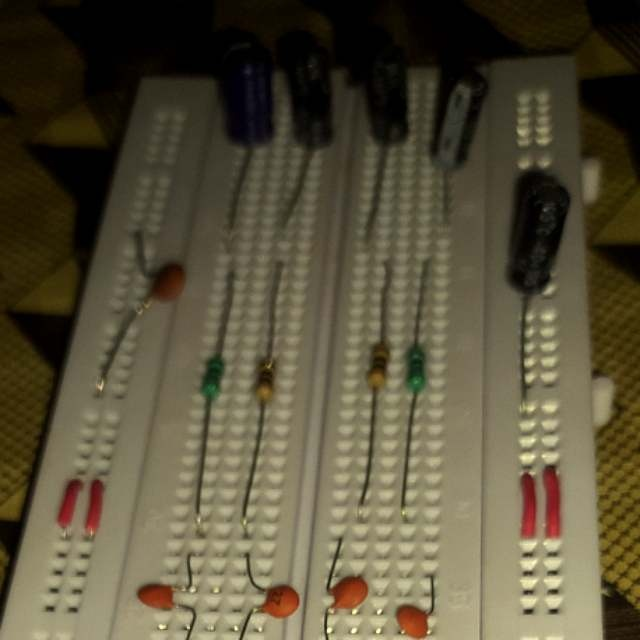capacitor: (503, 166, 570, 306), (436, 64, 496, 176), (218, 44, 281, 147), (144, 262, 187, 309), (254, 581, 299, 619), (333, 574, 373, 614), (391, 602, 433, 640), (138, 582, 183, 614)
resistor: (401, 344, 424, 394), (252, 354, 274, 404), (203, 356, 224, 398), (369, 342, 389, 386)
